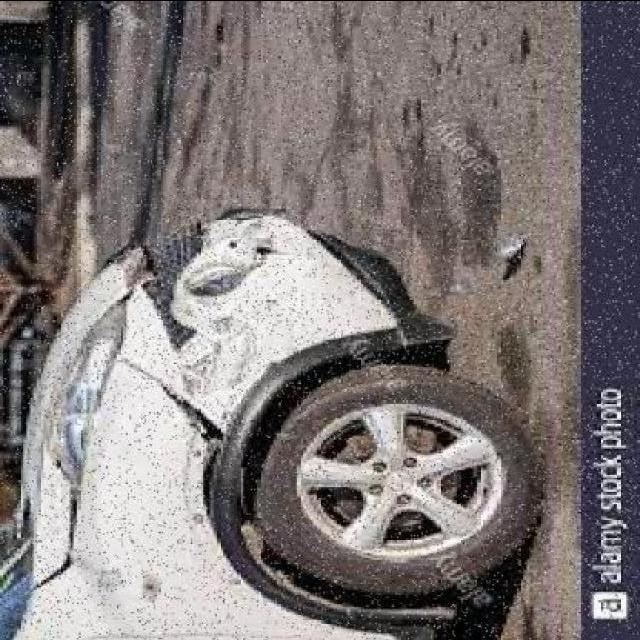fender-dent: (57, 384, 461, 626)
front-bumper-dent: (131, 192, 438, 392)
